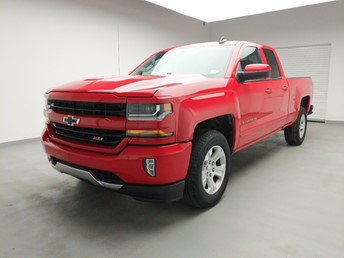car: (40, 37, 317, 206)
